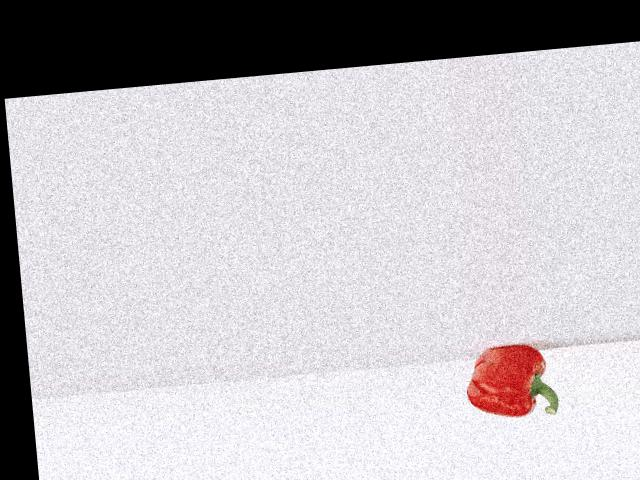bell_pepper: (458, 337, 568, 425)
